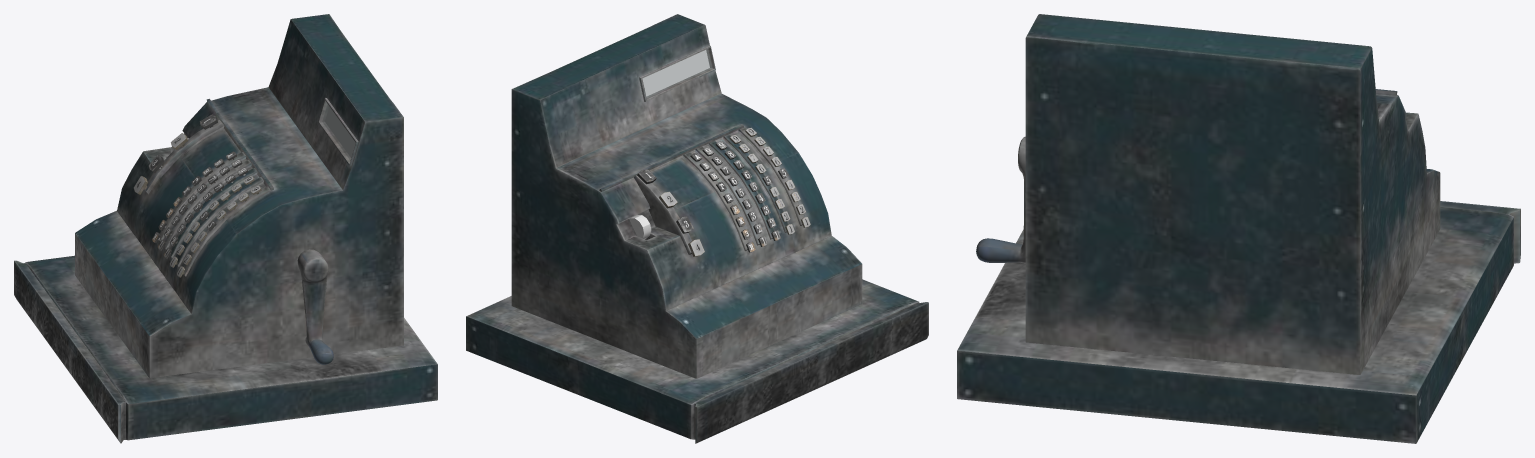
The model's file is SM_ShopRegister.glb.
3 views of the same model, side by side, from view 1: azimuth 30°, elevation 25°; view 2: azimuth 150°, elevation 25°; view 3: azimuth 270°, elevation 25° (orthographic). The views are drawn at different scales.
Visible parts, largest first — view 1: SM_ShopRegister; view 2: SM_ShopRegister; view 3: SM_ShopRegister.
Part boxes in pixels (box(x1,y1,x2,y2)): SM_ShopRegister: box(14, 14, 437, 443); SM_ShopRegister: box(466, 14, 928, 443); SM_ShopRegister: box(957, 14, 1520, 443).
Bounding box in the file's own units: 1.37 × 0.9978 × 1.42.
4 materials, 2 textured.
